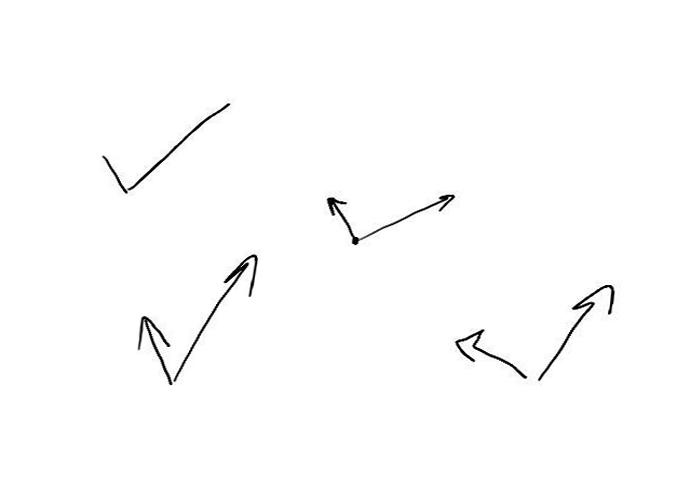arrow: (176, 254, 257, 379), (539, 283, 615, 377), (359, 190, 453, 241), (453, 328, 527, 377), (136, 314, 171, 385), (326, 195, 356, 238)
arrownohead: (127, 101, 229, 191), (99, 154, 127, 194)
